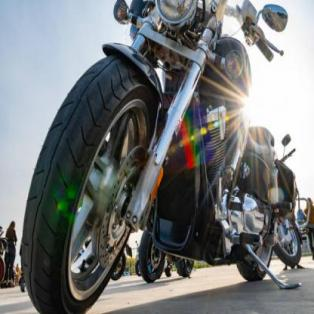Motocicleta: (22, 0, 303, 313)
